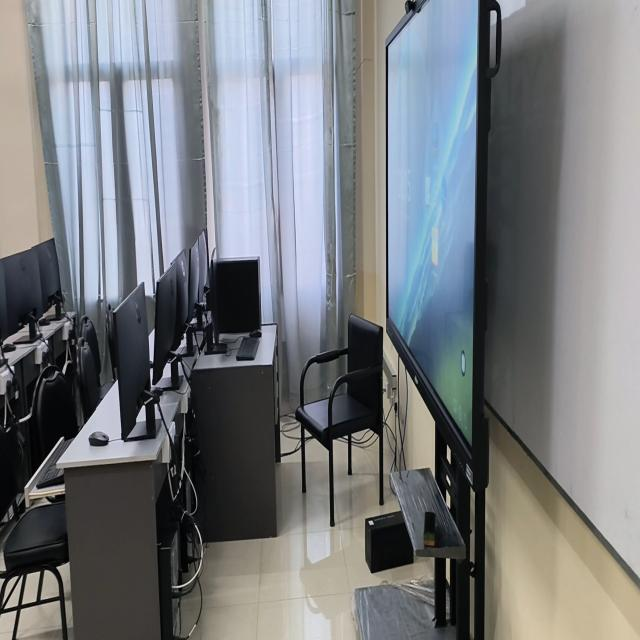Chair: (295, 315, 384, 526), (0, 424, 69, 639), (33, 366, 78, 455), (77, 315, 100, 420)
Cpu: (211, 257, 261, 339)
Digital board: (386, 0, 477, 445)
Keyboard: (37, 460, 64, 488), (236, 337, 260, 360), (59, 440, 67, 453)
Monitor: (0, 239, 64, 338), (113, 283, 150, 440), (152, 266, 176, 385), (31, 238, 64, 311), (173, 250, 188, 349), (188, 237, 199, 322), (197, 230, 208, 302)
Mouse: (89, 431, 109, 446)
